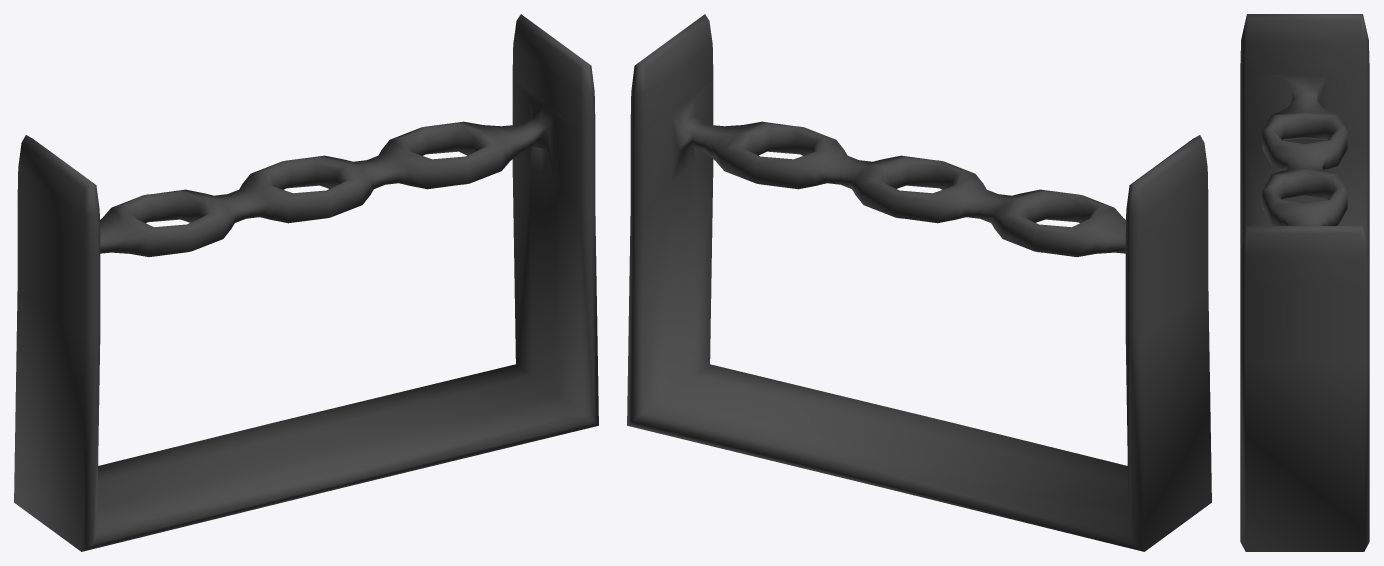
The model's file is Tube flask holder.fbx.
3 renders of one model, left to right at view 1: azimuth 30°, elevation 25°; view 2: azimuth 150°, elevation 25°; view 3: azimuth 270°, elevation 25°, orthographic. The views are drawn at different scales.
Parts seen in each view (by area): view 1: Tube flask holder; view 2: Tube flask holder; view 3: Tube flask holder.
Boxes of the visible parts, left/top/right/bottom form: Tube flask holder: left=14, top=14, right=598, bottom=551; Tube flask holder: left=627, top=14, right=1211, bottom=551; Tube flask holder: left=1240, top=14, right=1369, bottom=551.
Size of the model in its own units: 42.18 by 28.47 by 10.4.
